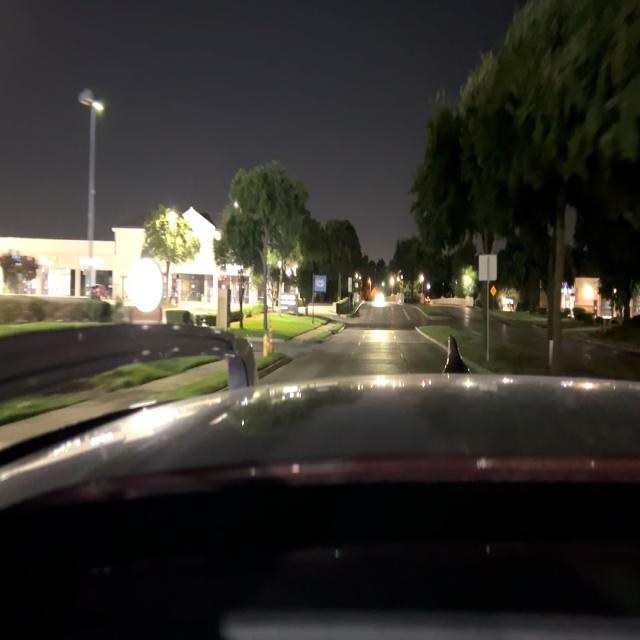back-of-sign: (479, 254, 496, 278)
